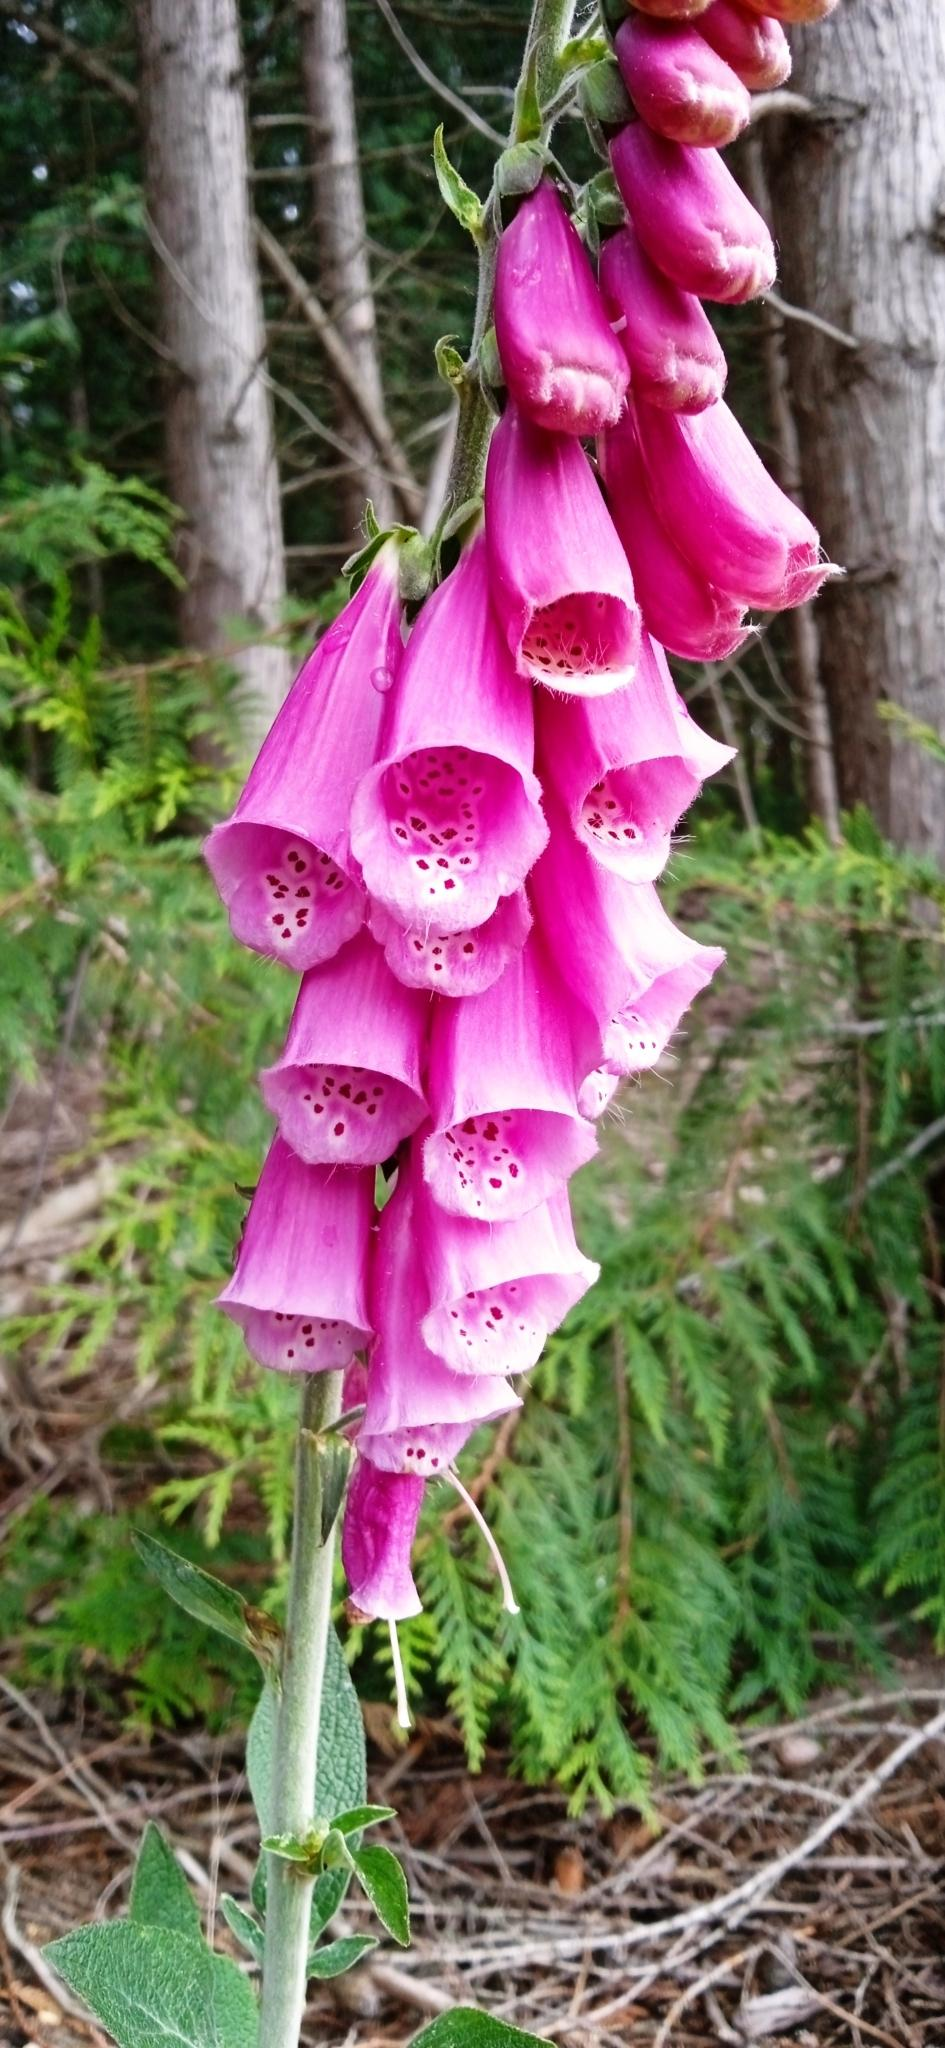Digitalis L: (90, 7, 835, 1987)
